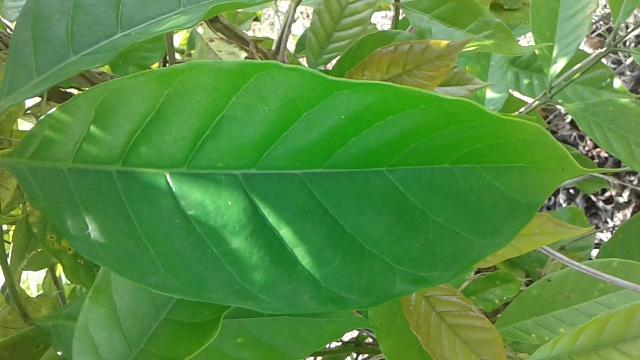healthy: (6, 56, 636, 316)
